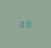zero: (19, 20, 24, 28), (25, 20, 30, 27)
